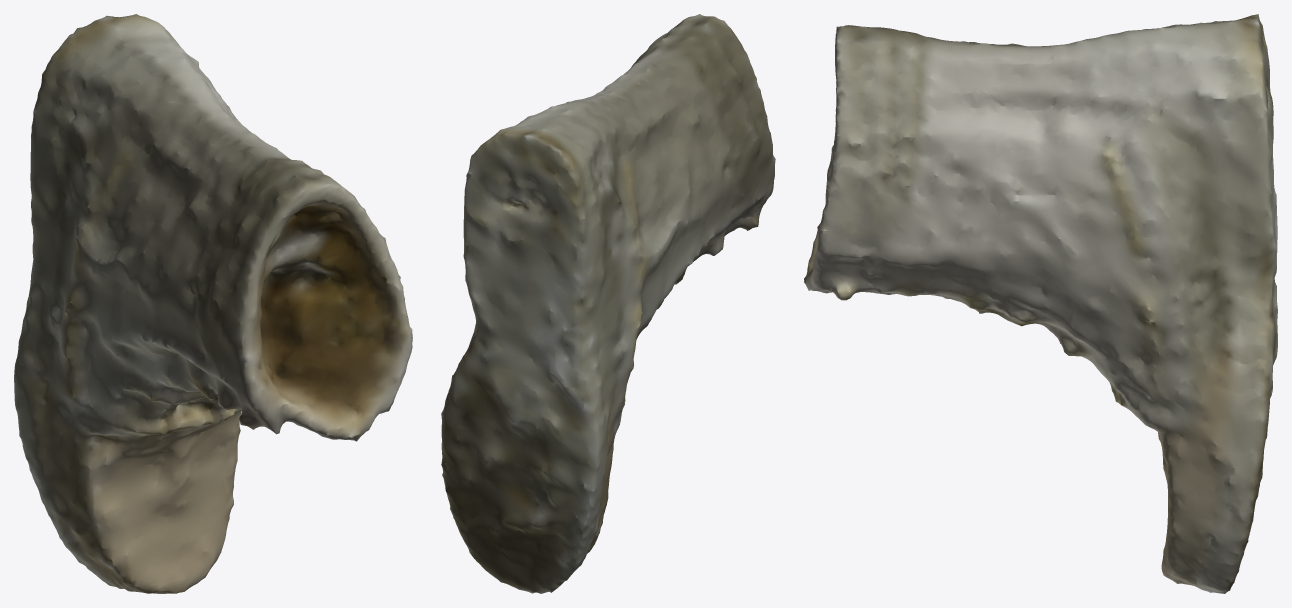
Rendered from shoe1.glb.
3 renders of one model, left to right at view 1: azimuth 30°, elevation 25°; view 2: azimuth 150°, elevation 25°; view 3: azimuth 270°, elevation 25°, orthographic. The views are drawn at different scales.
Bounding box in the file's own units: 0.3616 × 0.9944 × 0.7761.
